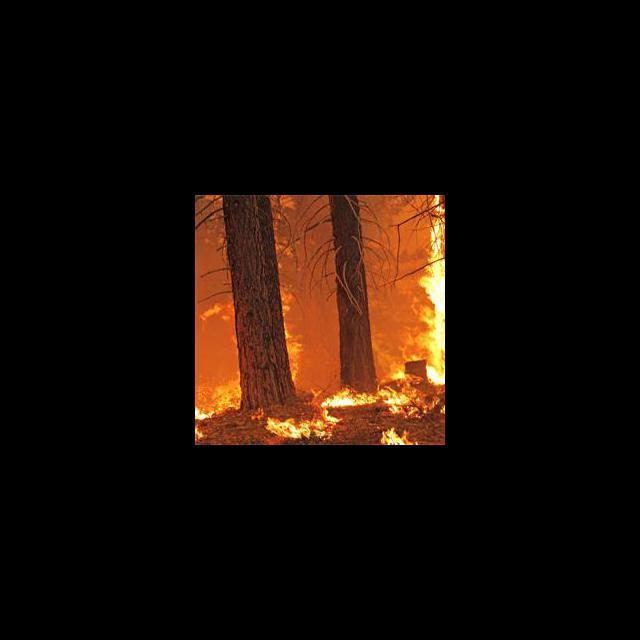Fire: (264, 385, 444, 444), (418, 196, 446, 383), (196, 360, 243, 442)
